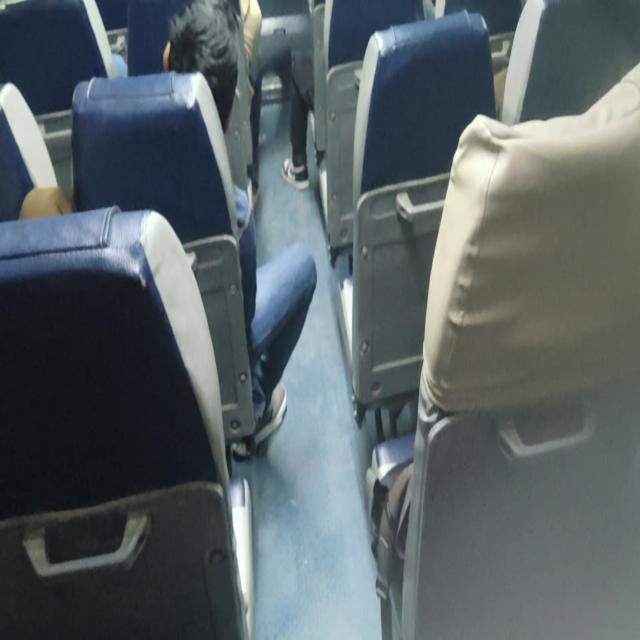person: (144, 0, 241, 164)
